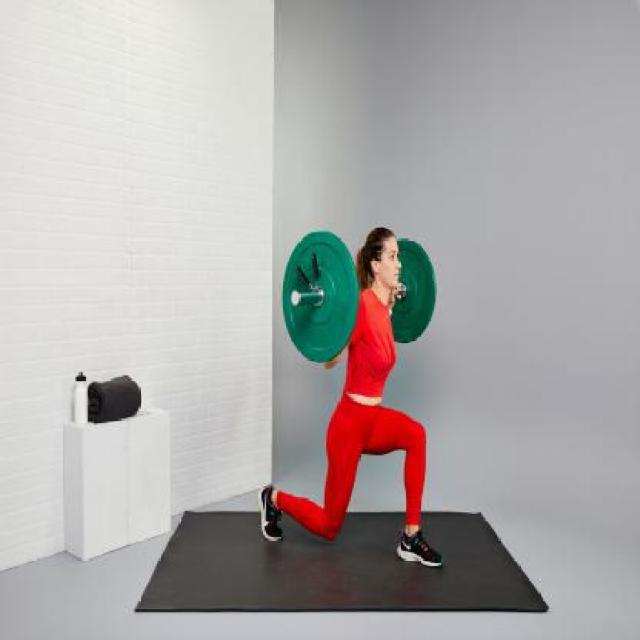Barbell: (286, 283, 302, 311)
